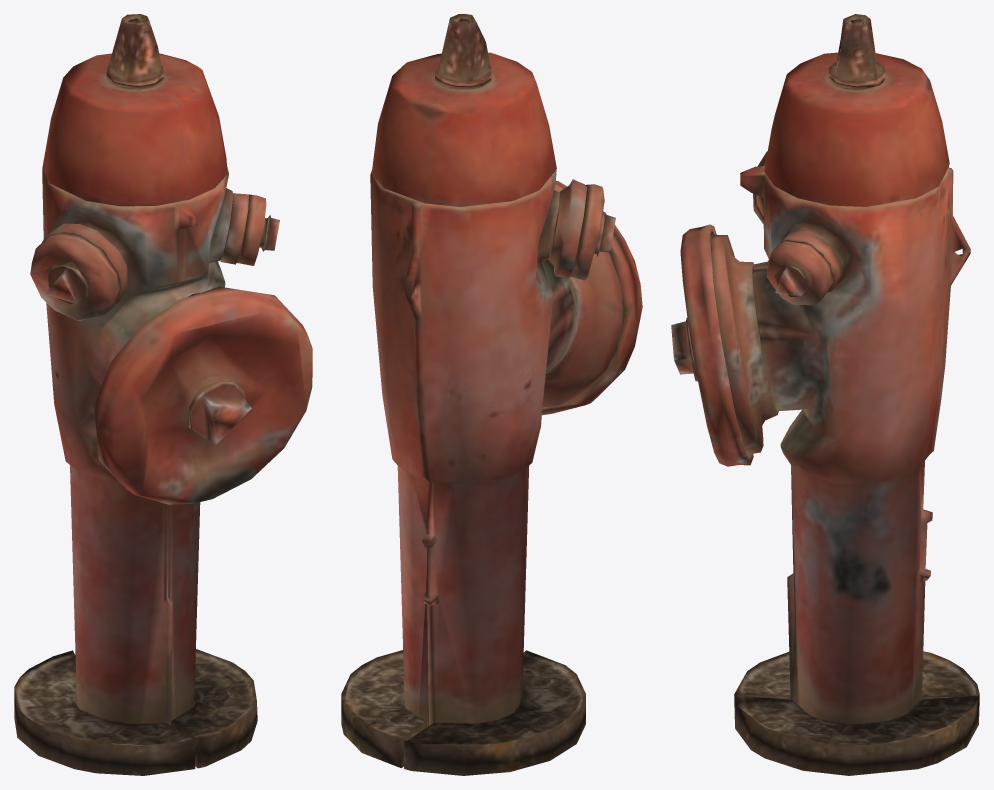
Rendered from fire_hydrant-aged.glb.
3 views of the same model, side by side, from view 1: azimuth 30°, elevation 25°; view 2: azimuth 150°, elevation 25°; view 3: azimuth 270°, elevation 25° (orthographic).
Visible parts, largest first — view 1: fire_hydrant_aged; view 2: fire_hydrant_aged; view 3: fire_hydrant_aged.
Part boxes in pixels (x1=…): fire_hydrant_aged: x1=14, y1=14, x2=312, y2=775; fire_hydrant_aged: x1=341, y1=14, x2=642, y2=775; fire_hydrant_aged: x1=671, y1=14, x2=979, y2=775.
Size of the model in its own units: 0.2745 by 0.7994 by 0.3173.
Materials: 1 (1 with a texture image).
